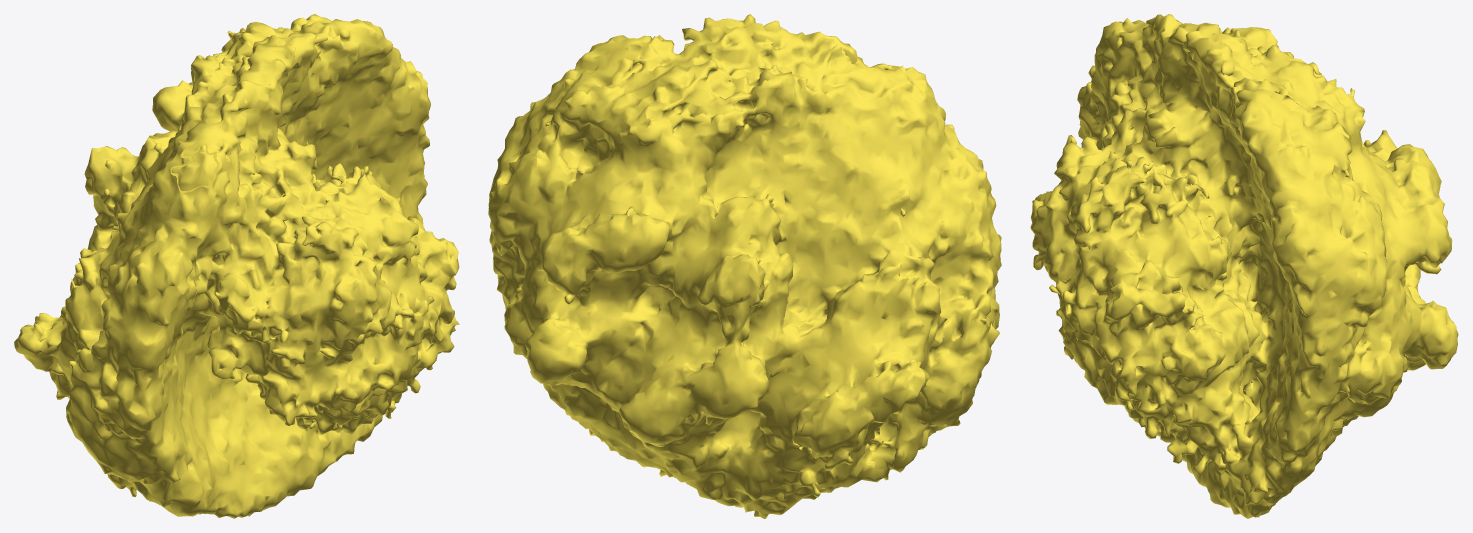
The picture shows the model from 3 angles, left to right: view 1: azimuth 30°, elevation 25°; view 2: azimuth 150°, elevation 25°; view 3: azimuth 270°, elevation 25°; orthographic projection.
Visible parts, largest first — view 1: surface; view 2: surface; view 3: surface.
Part boxes in pixels (bbox=[...]): surface: bbox=[14, 14, 459, 518]; surface: bbox=[488, 14, 1001, 518]; surface: bbox=[1030, 14, 1458, 518].
Size of the model in its own units: 332 by 346 by 290.
